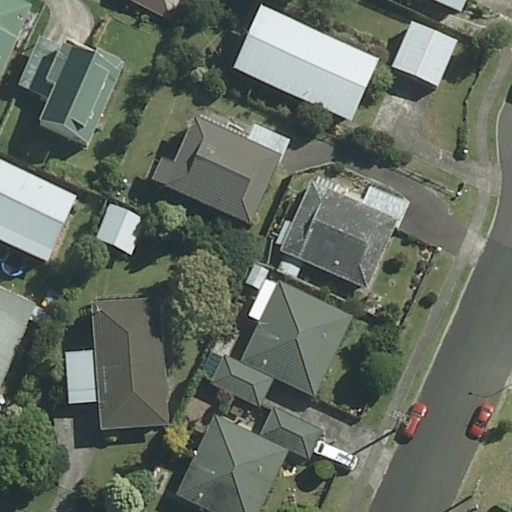DT: (391, 408, 407, 444), (468, 476, 483, 511)
